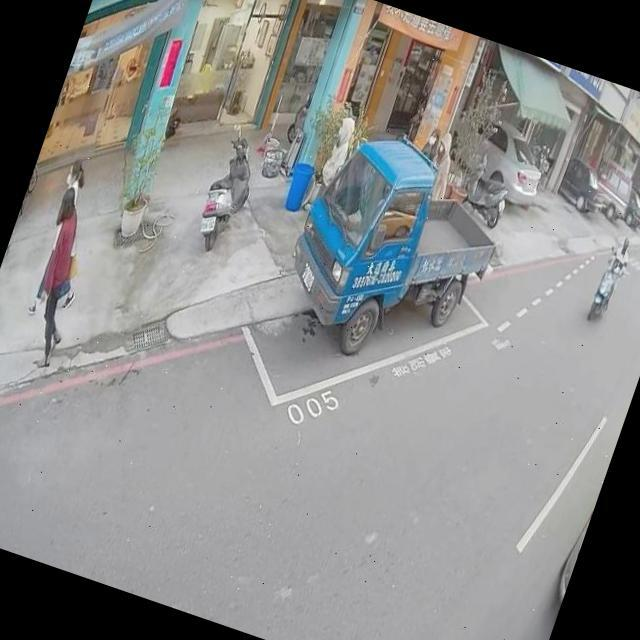person: (4, 168, 114, 372), (16, 157, 110, 332), (284, 104, 366, 267), (418, 128, 464, 205), (414, 120, 446, 168), (604, 232, 638, 277)
